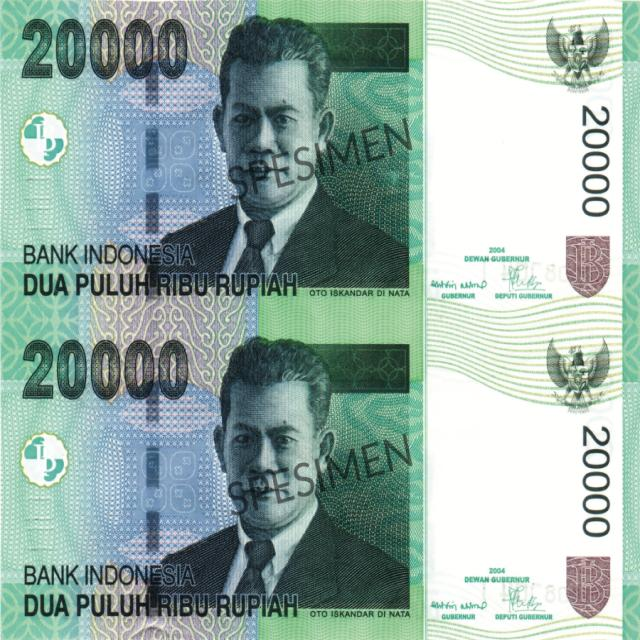dua puluh ribu rupiah: (1, 320, 638, 639), (1, 3, 638, 320)
